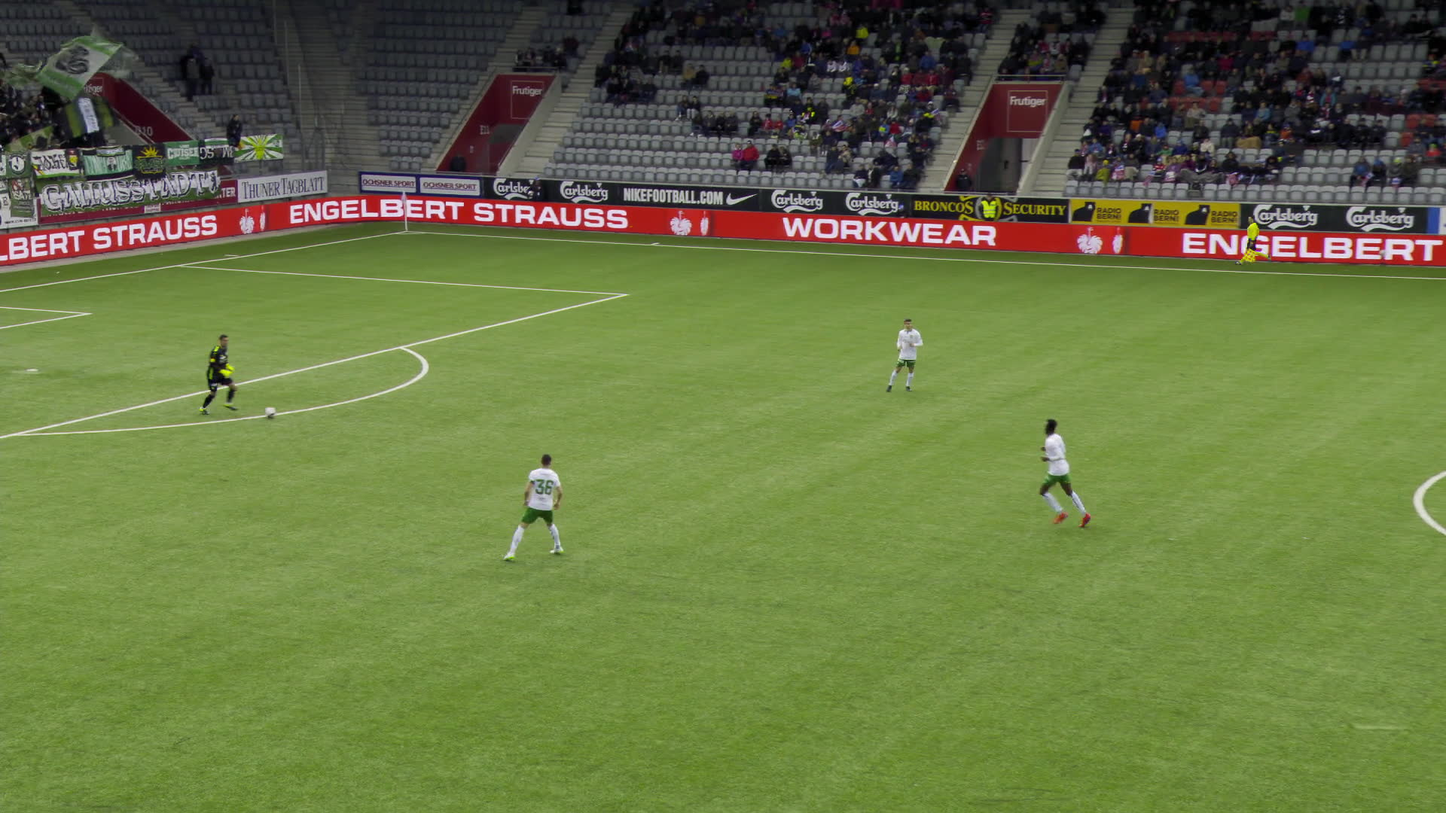ball: (264, 404, 278, 419)
player: (1030, 418, 1092, 531), (503, 452, 566, 562), (194, 330, 243, 417), (886, 316, 923, 395)
referee: (1231, 215, 1274, 267)
